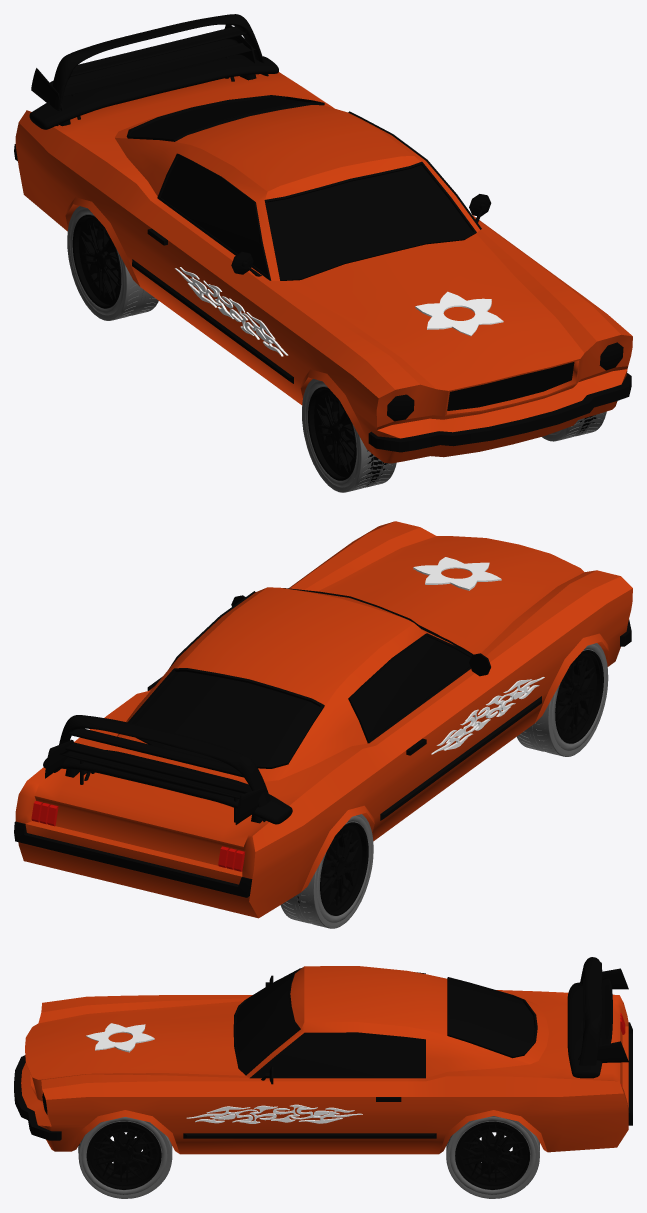
File: mustang.fbx
The picture shows the model from 3 angles, top to bottom: view 1: azimuth 30°, elevation 25°; view 2: azimuth 150°, elevation 25°; view 3: azimuth 270°, elevation 25°; orthographic projection. The views are drawn at different scales.
Parts seen in each view (by area): view 1: Mustang_4, Mustang_3, cube1, cube1_2, Circle.009, Mustang, cylinder1_sep4, Decal1, Circle.006, Decal0 - Copy, Cut-Revolve1_3, Cut-Revolve1_2 (+14 smaller); view 2: Mustang_4, Mustang_3, cube1, Circle.011, cylinder1_sep4, cube1_2, Cut-Revolve1_2, roda 18 pol tala 8 pol_9, roda 18 pol tala 8 pol_3, Decal0 - Copy, Cut-Revolve1_3, Circle.007 (+10 smaller); view 3: Mustang_4, Mustang_3, cube1, Decal0 - Copy, cylinder1_sep4, cube1_2, Circle.010, roda 18 pol tala 8 pol_6, roda 18 pol tala 8 pol_12, peneu_2, peneu_4, Shape_IndexedFaceSet.003_2 (+15 smaller).
Boxes of the visible parts, <box> form: Mustang_4: <box>15,72,632,463</box>; Mustang_3: <box>131,97,472,277</box>; cube1: <box>49,14,268,125</box>; cube1_2: <box>29,54,278,129</box>; Circle.009: <box>368,373,631,452</box>; Mustang: <box>447,362,574,410</box>; cylinder1_sep4: <box>31,24,256,119</box>; Decal1: <box>415,291,503,336</box>; Circle.006: <box>264,161,476,280</box>; Decal0 - Copy: <box>175,267,288,356</box>; Cut-Revolve1_3: <box>302,379,396,492</box>; Cut-Revolve1_2: <box>67,206,158,320</box>; Mustang_4: <box>15,521,632,918</box>; Mustang_3: <box>132,625,470,765</box>; cube1: <box>54,715,270,821</box>; Circle.011: <box>14,821,252,897</box>; cylinder1_sep4: <box>45,739,267,824</box>; cube1_2: <box>43,750,292,824</box>; Cut-Revolve1_2: <box>280,814,373,928</box>; roda 18 pol tala 8 pol_9: <box>556,658,595,735</box>; roda 18 pol tala 8 pol_3: <box>321,830,359,908</box>; Decal0 - Copy: <box>431,677,544,754</box>; Cut-Revolve1_3: <box>517,643,608,756</box>; Circle.007: <box>127,668,324,768</box>; Mustang_4: <box>21,966,628,1154</box>; Mustang_3: <box>236,974,534,1076</box>; cube1: <box>579,957,602,1078</box>; Decal0 - Copy: <box>186,1104,362,1123</box>; cylinder1_sep4: <box>578,968,628,1062</box>; cube1_2: <box>567,982,602,1078</box>; Circle.010: <box>183,1133,436,1138</box>; roda 18 pol tala 8 pol_6: <box>461,1124,524,1182</box>; roda 18 pol tala 8 pol_12: <box>92,1125,155,1181</box>; peneu_2: <box>449,1117,535,1194</box>; peneu_4: <box>81,1117,167,1194</box>; Shape_IndexedFaceSet.003_2: <box>457,1123,527,1186</box>.
Size of the model in its own units: 1323 by 3420 by 994.
